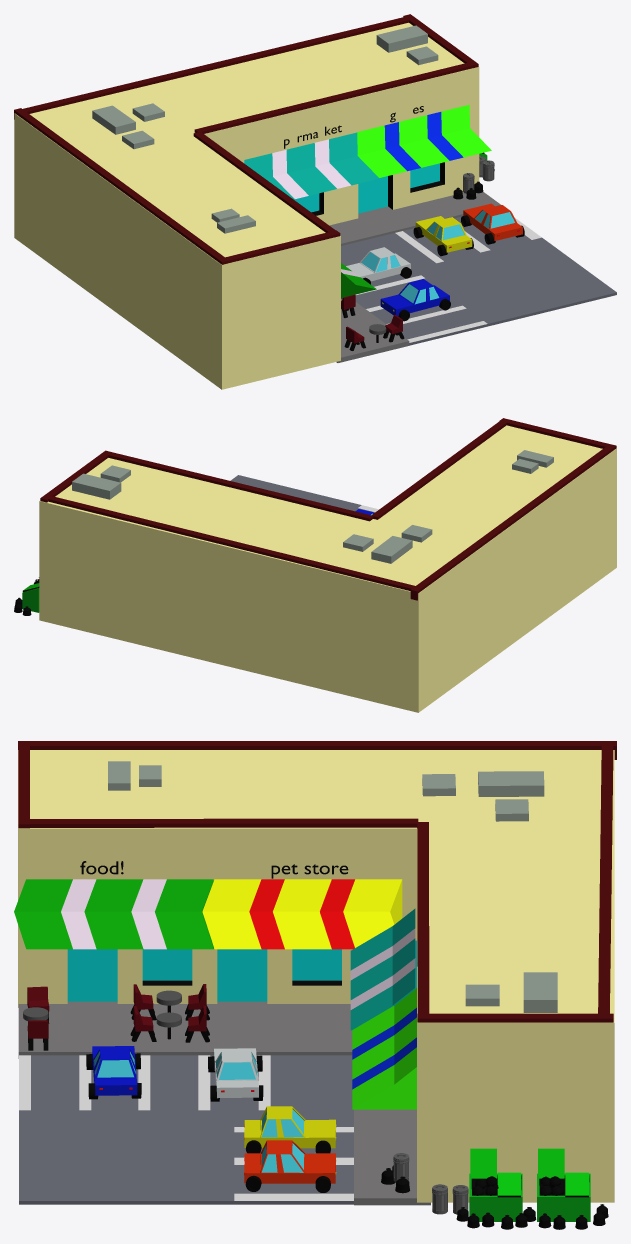
The model's file is building 17 ( corner store).fbx.
3 renders of one model, top to bottom at view 1: azimuth 30°, elevation 25°; view 2: azimuth 150°, elevation 25°; view 3: azimuth 270°, elevation 25°, orthographic. The views are drawn at different scales.
Parts seen in each view (by area): view 1: Cube, Cube.032, Cube.024, Cube.031, Cube.023, Cube.027, Cube.026, Cube.030, Cube.037, Cube.029, Cube.052, Cube.043 (+6 smaller); view 2: Cube, Cube.027, Cube.026, Cube.030, Cube.029, Cube.032, Cube.065, Cube.025, Cube.066, Cube.028; view 3: Cube, Cube.032, Cube.031, Cube.003, Cube.001, Cube.024, Cube.023, Cube.026, Cube.029, Cube.027, Cube.052, Cube.043 (+15 smaller).
Boxes of the visible parts, left/top/right/bottom form: Cube: left=14, top=22, right=479, bottom=389; Cube.032: left=341, top=216, right=616, bottom=345; Cube.024: left=357, top=105, right=491, bottom=177; Cube.031: left=329, top=192, right=500, bottom=362; Cube.023: left=244, top=132, right=379, bottom=199; Cube.027: left=16, top=15, right=413, bottom=113; Cube.026: left=14, top=108, right=229, bottom=264; Cube.030: left=194, top=61, right=477, bottom=133; Cube.037: left=380, top=279, right=449, bottom=316; Cube.029: left=193, top=132, right=335, bottom=234; Cube.052: left=463, top=203, right=522, bottom=240; Cube.043: left=415, top=216, right=472, bottom=252; Cube: left=39, top=425, right=616, bottom=712; Cube.027: left=43, top=495, right=419, bottom=590; Cube.026: left=410, top=445, right=616, bottom=600; Cube.030: left=103, top=452, right=373, bottom=521; Cube.029: left=372, top=419, right=509, bottom=519; Cube.032: left=230, top=475, right=378, bottom=512; Cube.065: left=72, top=473, right=121, bottom=499; Cube.025: left=499, top=418, right=615, bottom=448; Cube.066: left=371, top=536, right=412, bottom=563; Cube.028: left=40, top=450, right=111, bottom=502; Cube: left=18, top=750, right=614, bottom=1202; Cube.032: left=19, top=1055, right=353, bottom=1204; Cube.031: left=18, top=1001, right=430, bottom=1205; Cube.003: left=14, top=879, right=213, bottom=949; Cube.001: left=202, top=879, right=402, bottom=949; Cube.024: left=352, top=988, right=416, bottom=1109; Cube.023: left=350, top=908, right=415, bottom=1030; Cube.026: left=18, top=741, right=616, bottom=759; Cube.029: left=19, top=818, right=418, bottom=827; Cube.027: left=598, top=742, right=613, bottom=1017; Cube.052: left=244, top=1140, right=335, bottom=1183; Cube.043: left=244, top=1106, right=335, bottom=1148.
Size of the model in its own units: 3419 by 1025 by 2867.
